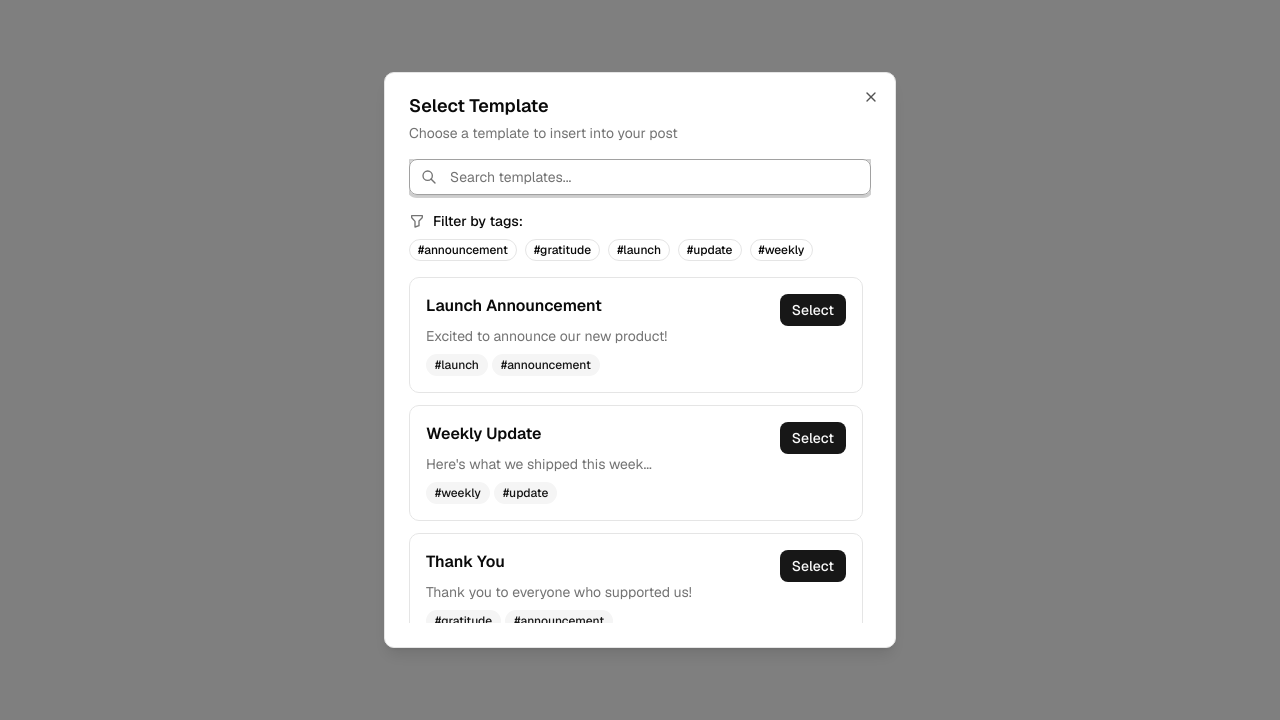
Test case: TemplatePickerModal Component › Search Functionality › clears search when clear button is clicked
This screenshot has width=1280, height=720.
Type "Weekly" into the field with placeholder "Search templates...".
click(640, 177); type("Weekly")  # box left=409, top=159, right=871, bottom=195
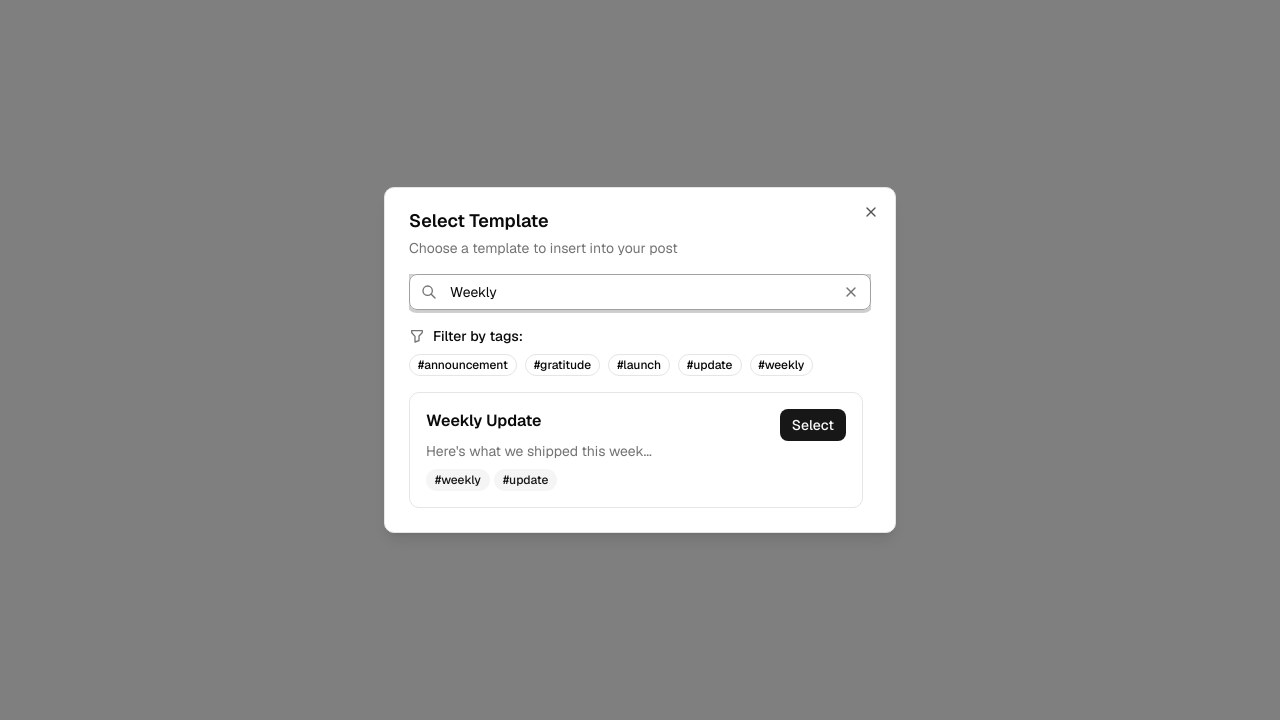
Click the button named "Clear search".
click(851, 292)  # box left=843, top=284, right=859, bottom=300
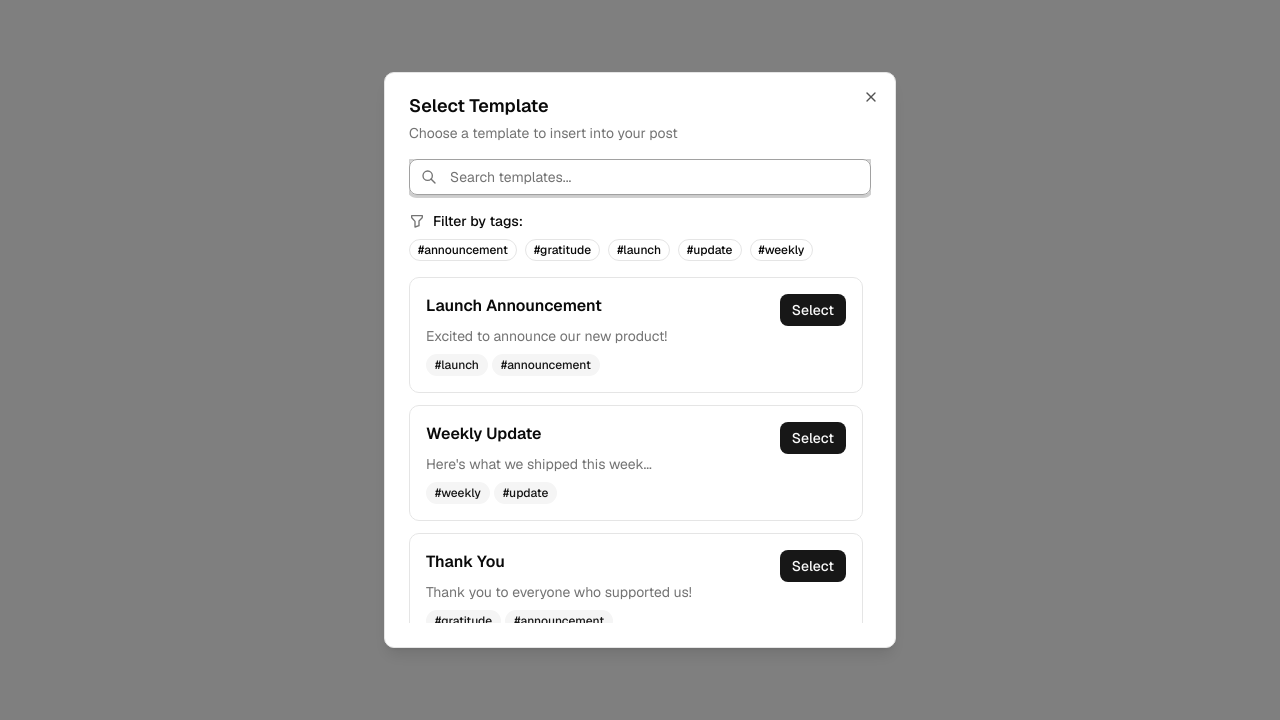
Expected: the heading "Weekly Update" is shown, left=426, top=423, right=542, bottom=444
Now the heading "Launch Announcement" is shown, box left=426, top=295, right=602, bottom=316
Now the heading "Thank You" is shown, box left=426, top=551, right=505, bottom=572
